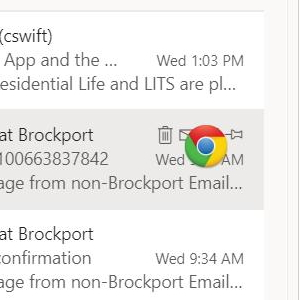chrome: (184, 124, 228, 168)
